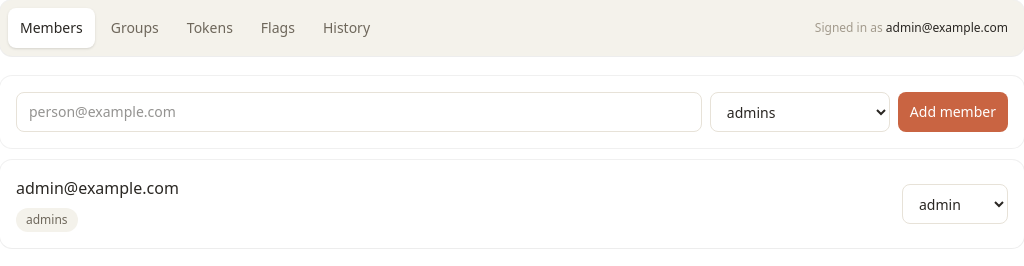
Test: AccessAdmin history tab › renders the subject, the actor as one name, and a relative timestamp
This screenshot has width=1024, height=266.
Click the tab "history".
click(346, 28)  # box [311, 8, 382, 48]
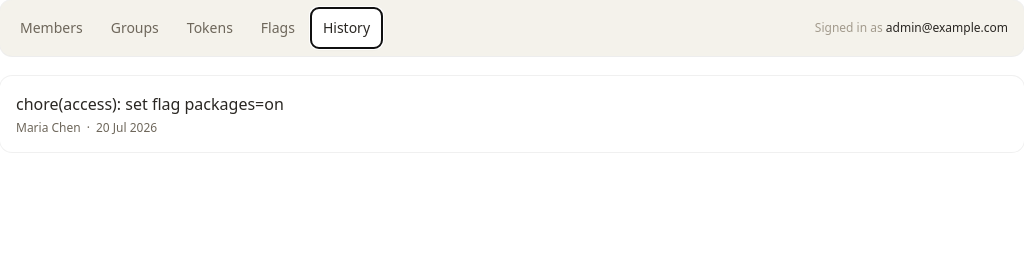
Expected: the text "chore(access): set flag packages=on" is shown, [16, 93, 284, 115]
Expected: the text "Maria Chen" is shown, [16, 120, 81, 136]
